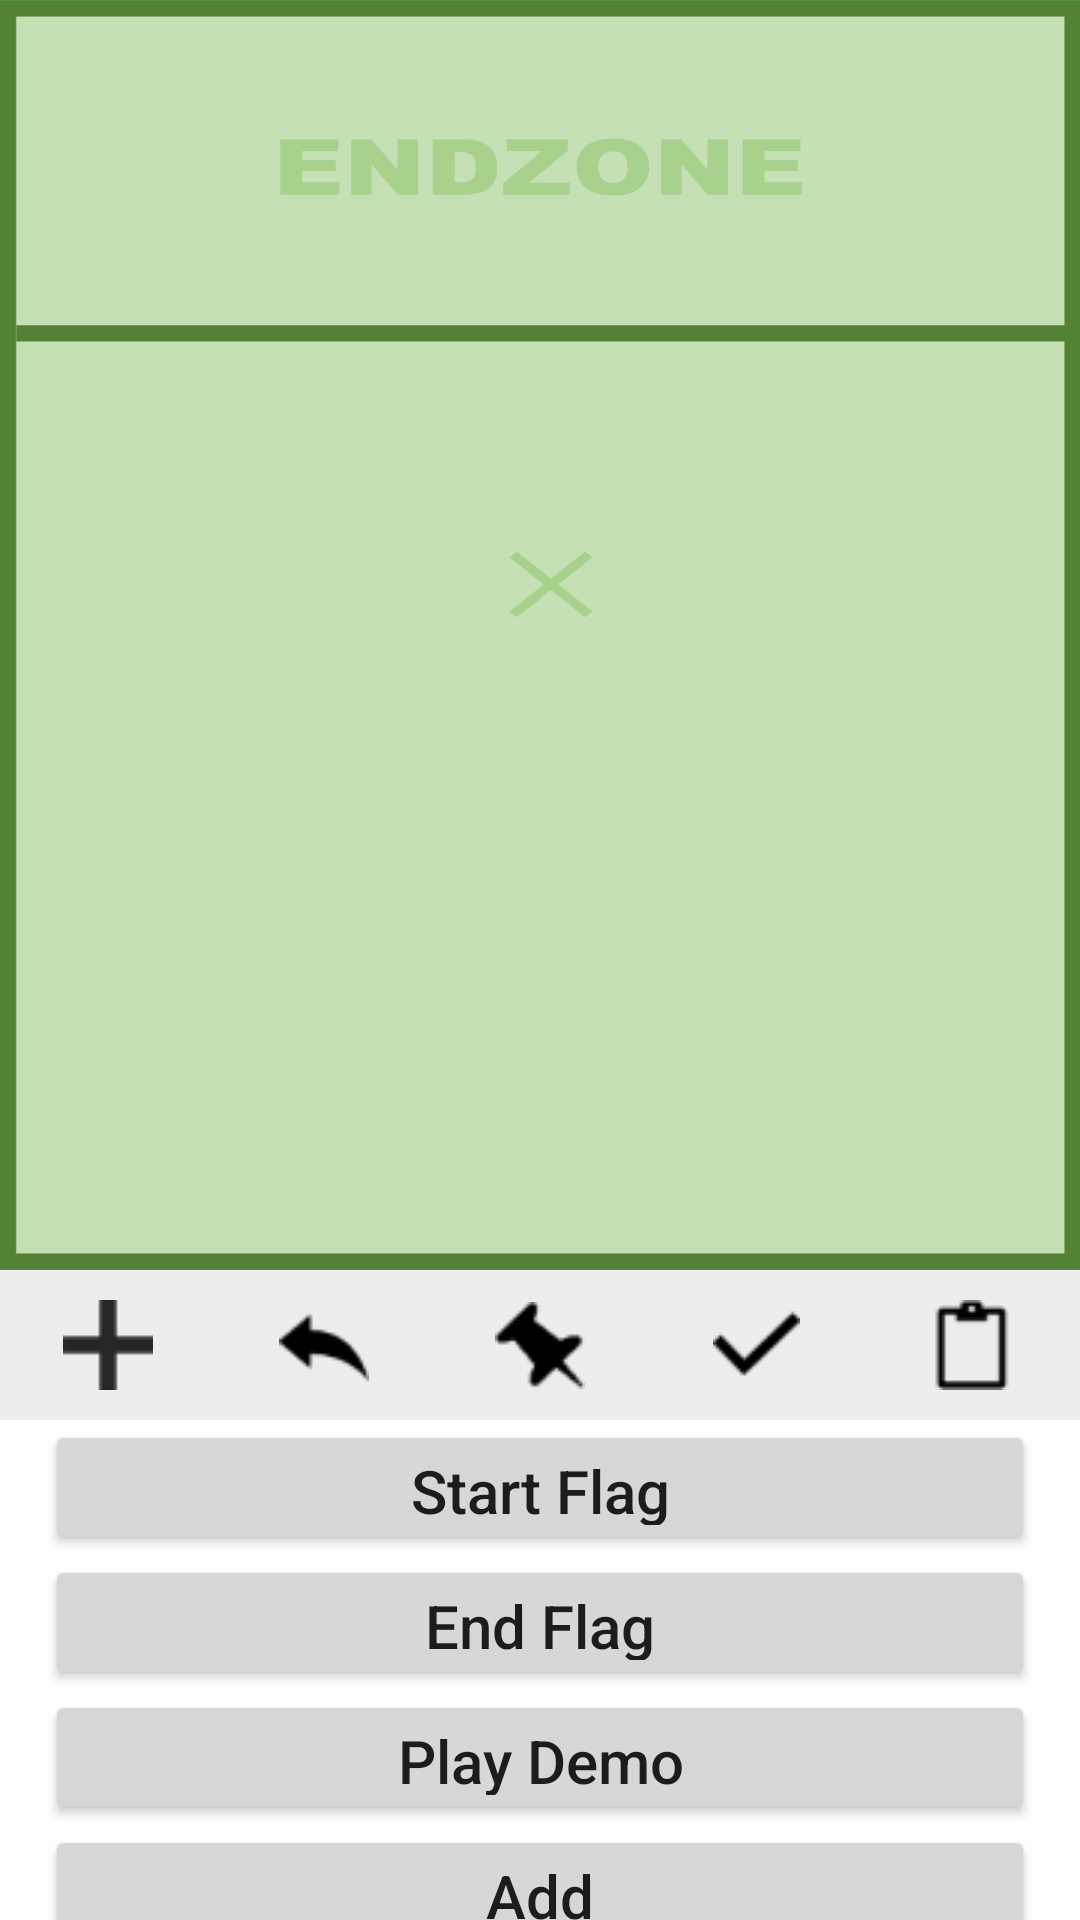

Where icons sit on this 1080×1920 app screen, as [left=x1, top=y1, right=x2, bottom=y2]:
adddisc: [left=63, top=1300, right=153, bottom=1390]
confirmanim: [left=713, top=1311, right=800, bottom=1376]
playbook: [left=935, top=1300, right=1008, bottom=1390]
setkeyframe: [left=495, top=1302, right=585, bottom=1389]
undoadd: [left=279, top=1314, right=369, bottom=1381]
